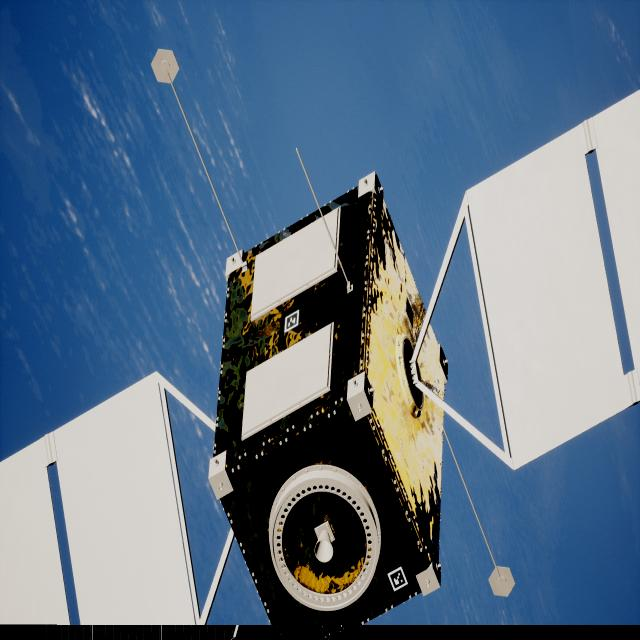satellite: (0, 93, 640, 627)
